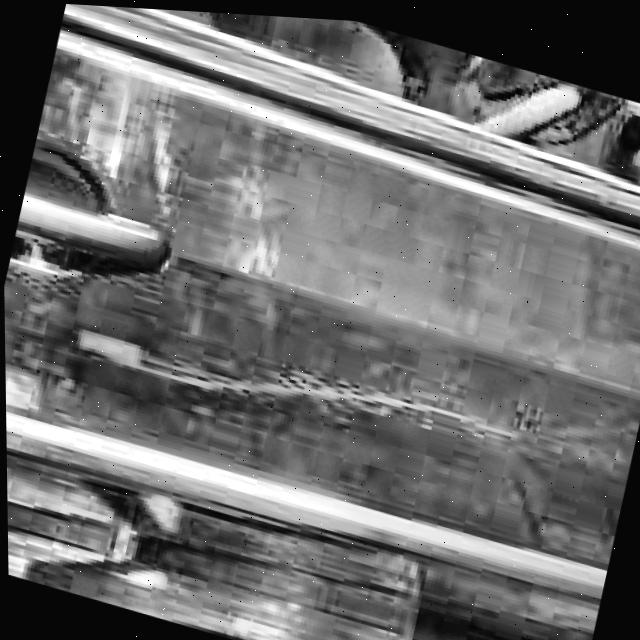door_scratch: (102, 289, 528, 492)
